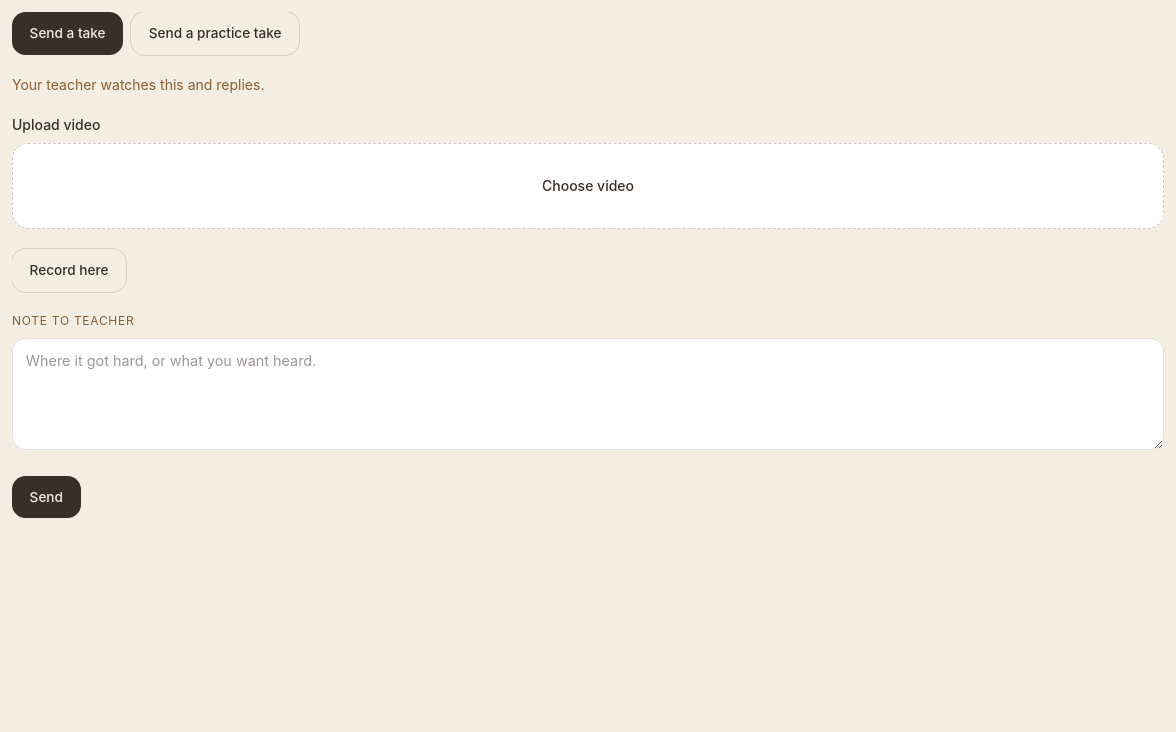
Test: StudentUpload › tells a take from a practice take
Expected: the text "Your teacher watches this and replies." is shown, [12,76,264,93]
What coordinates should you click on to do the following:
click the button "Send a practice take"
I would click on:
 (215, 33)
Its box is [131,12,299,55].
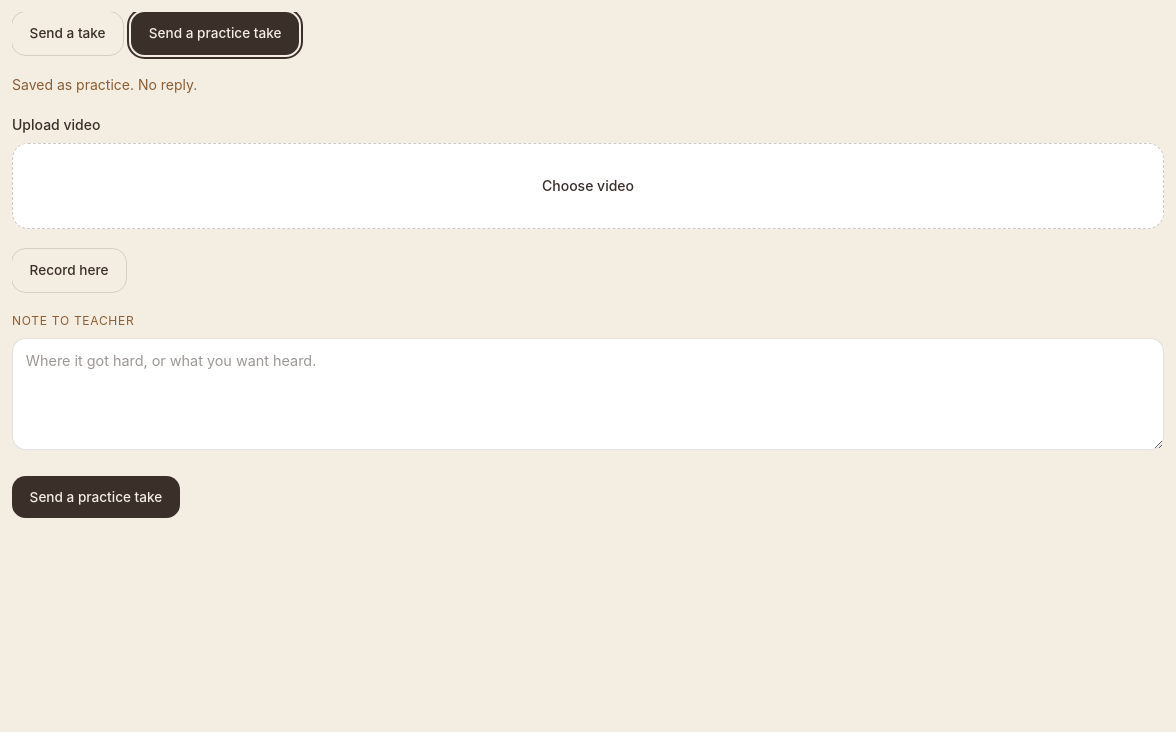
Expected: the text "Saved as practice. No reply." is shown, [12,76,197,93]
